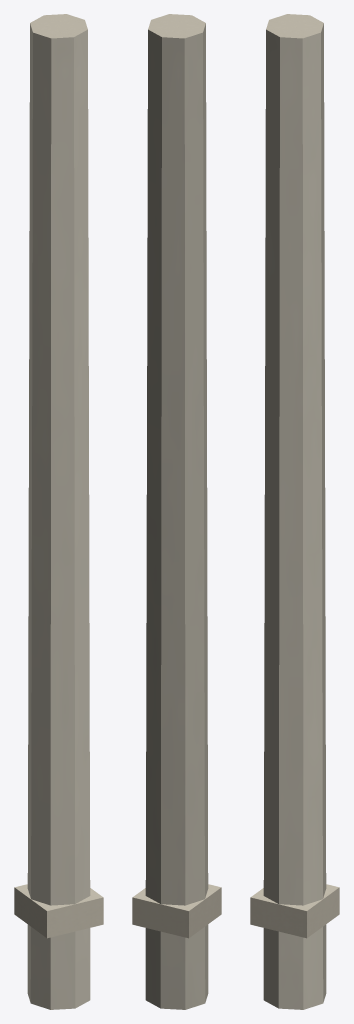
File: house_03_porch_post.glb
3 views of the same model, side by side, from view 1: azimuth 30°, elevation 25°; view 2: azimuth 150°, elevation 25°; view 3: azimuth 330°, elevation 25° (orthographic).
Visible parts, largest first — view 1: outdoor_house_03_porch_post; view 2: outdoor_house_03_porch_post; view 3: outdoor_house_03_porch_post.
Boxes of the visible parts, left/top/right/bottom form: outdoor_house_03_porch_post: left=14, top=14, right=103, bottom=1009; outdoor_house_03_porch_post: left=132, top=14, right=221, bottom=1009; outdoor_house_03_porch_post: left=250, top=14, right=339, bottom=1009.
Bounding box in the file's own units: 0.14 × 2.3 × 0.14.
1 material, 1 textured.
